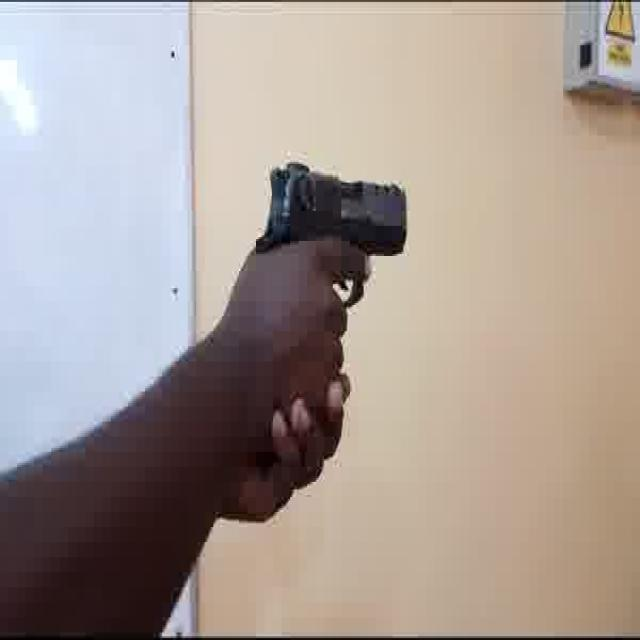weapon: (252, 159, 408, 320)
